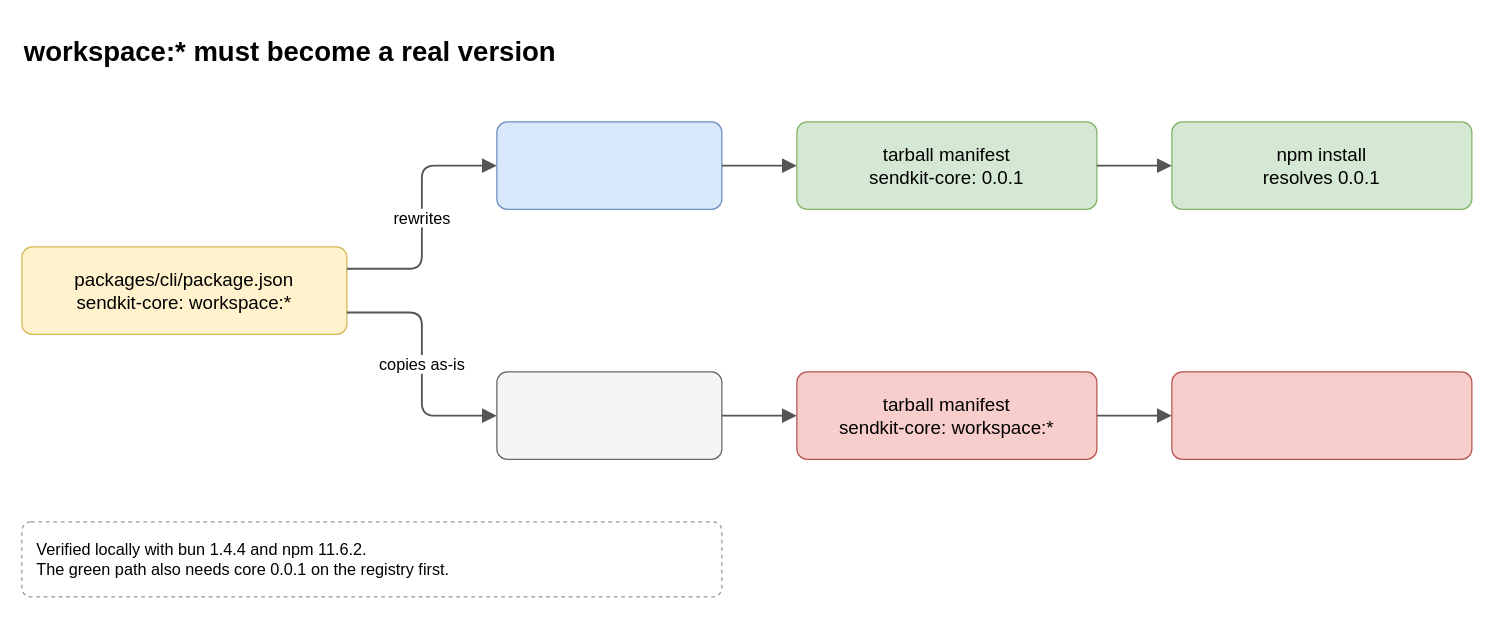
This 1494x619 diagram has some shape labels left out. Here are the shapes that lost their labels. From the top down, the centre of each, then its label:
pixel 609 165: bun pm pack or bun publish
pixel 609 415: npm pack or npm publish
pixel 1321 415: npm install EUNSUPPORTEDPROTOCOL
